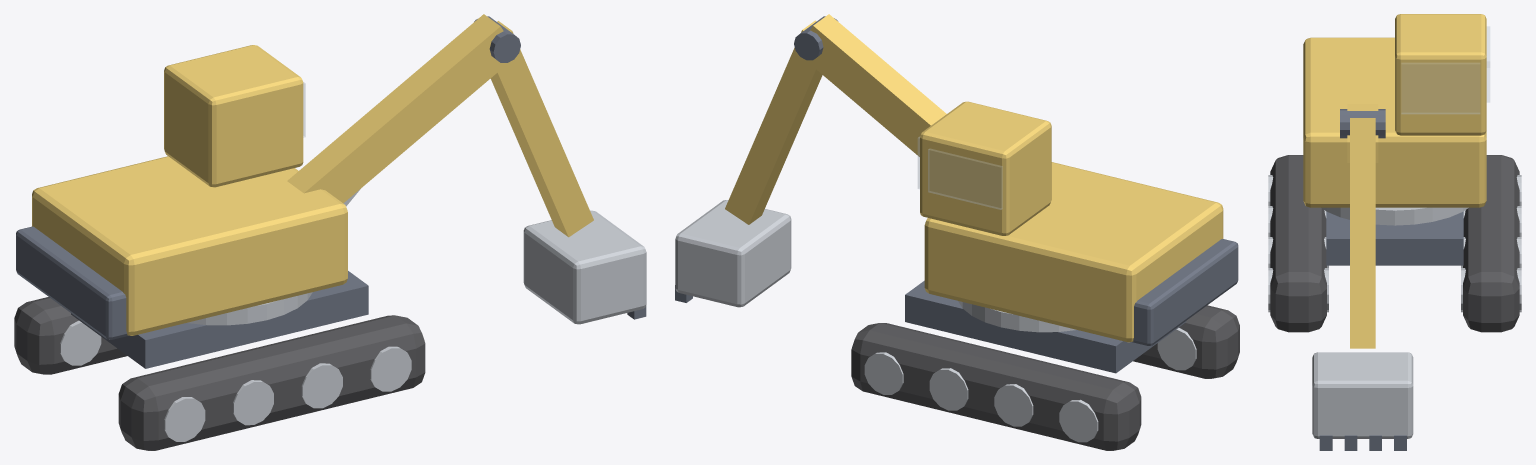
Rendered from excavator__excavator.fbx.
3 views of the same model, side by side, from view 1: azimuth 30°, elevation 25°; view 2: azimuth 150°, elevation 25°; view 3: azimuth 270°, elevation 25° (orthographic). The views are drawn at different scales.
Parts seen in each view (by area): view 1: excavator__excavator; view 2: excavator__excavator; view 3: excavator__excavator.
Boxes of the visible parts, x1,y1,x2,y2 form: excavator__excavator: [14, 14, 646, 450]; excavator__excavator: [675, 14, 1239, 450]; excavator__excavator: [1268, 14, 1521, 450].
Bounding box in the file's own units: 6.34 × 3.46 × 2.76.
